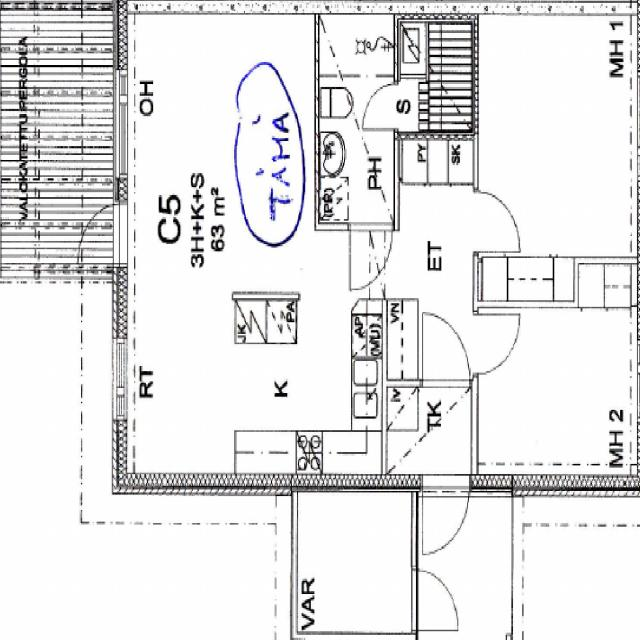door: (422, 476, 470, 567), (423, 314, 470, 388), (72, 205, 128, 264), (412, 569, 461, 630), (473, 192, 520, 252), (350, 222, 392, 289), (473, 314, 519, 373), (364, 85, 400, 127)
